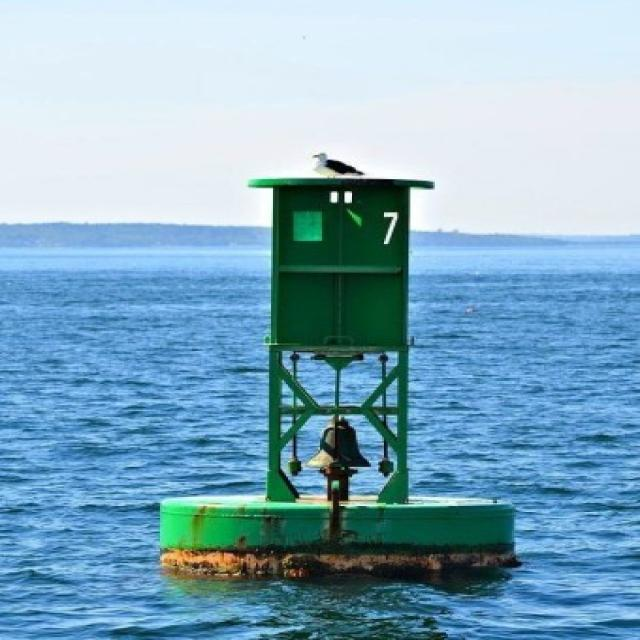2.1 lateral mark -S-: (144, 150, 558, 588)
